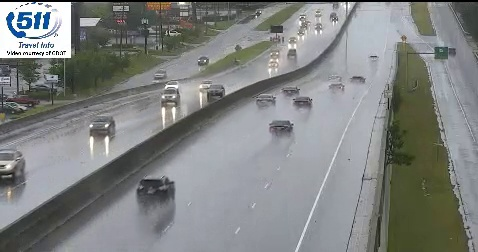car: (137, 176, 174, 207), (269, 120, 293, 137), (255, 93, 276, 107), (293, 96, 312, 110), (282, 86, 299, 98)
